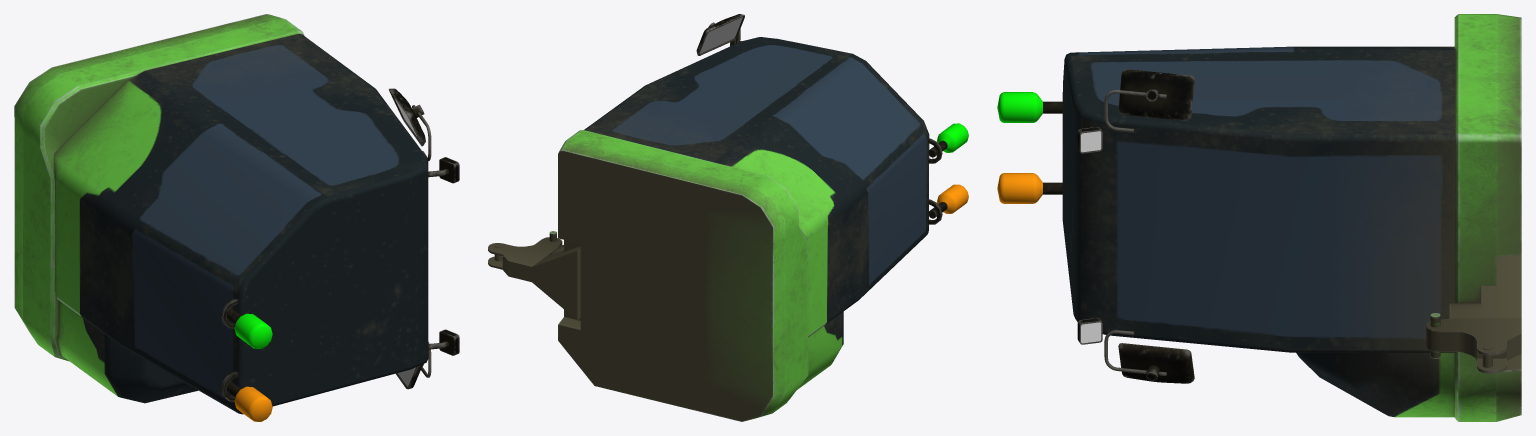
File: body.obj
3 renders of one model, left to right at view 1: azimuth 30°, elevation 25°; view 2: azimuth 150°, elevation 25°; view 3: azimuth 270°, elevation 25°, orthographic. The views are drawn at different scales.
Visible parts, largest first — view 1: Cabin.001; view 2: Cabin.001; view 3: Cabin.001.
Part boxes in pixels (<box>): Cabin.001: <box>14,14,459,421</box>; Cabin.001: <box>488,14,968,421</box>; Cabin.001: <box>997,14,1521,421</box>.
Bounding box in the file's own units: 1.74 × 1.49 × 2.
1 material, 1 textured.
